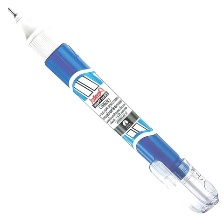correction_fluid: (4, 4, 220, 216)
